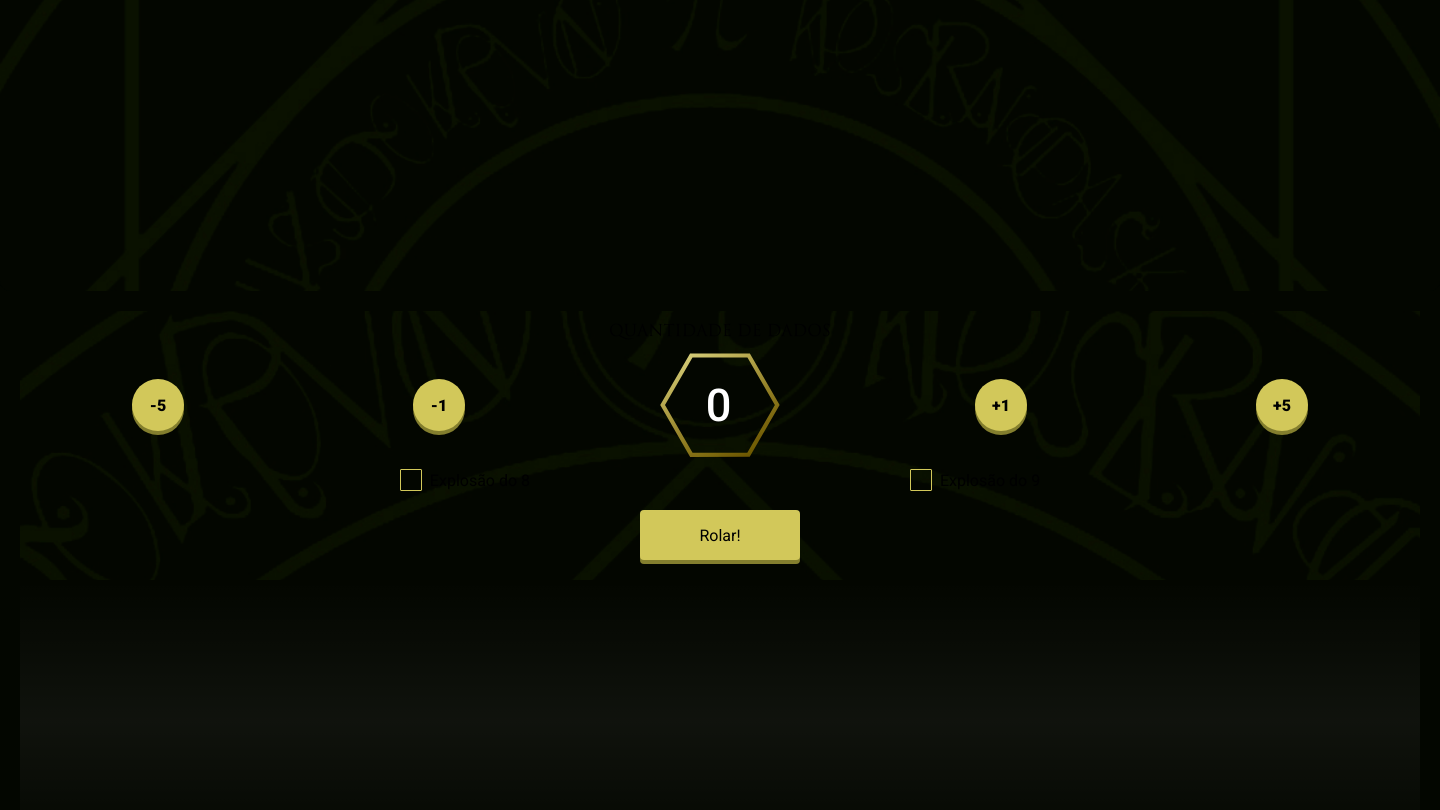
Test: DiceRollerComponent › increments dice count when +1 button is clicked
(page scrolled)
Click the button "+1" at x=1001, y=405, box [975,379,1027,431]
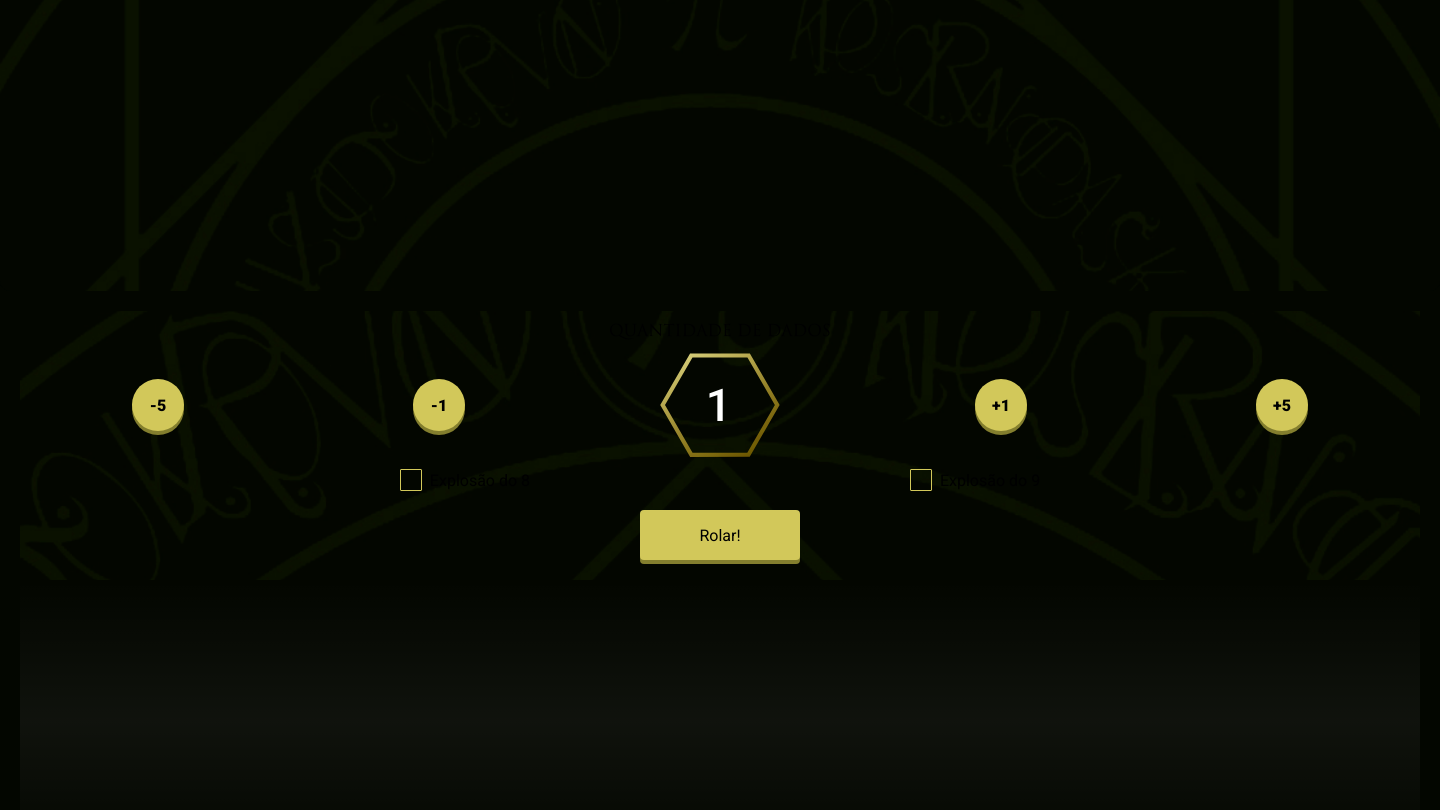
Result: the number field labelled "Quantidade de Dados" holds "1" at [660,336,780,474]
